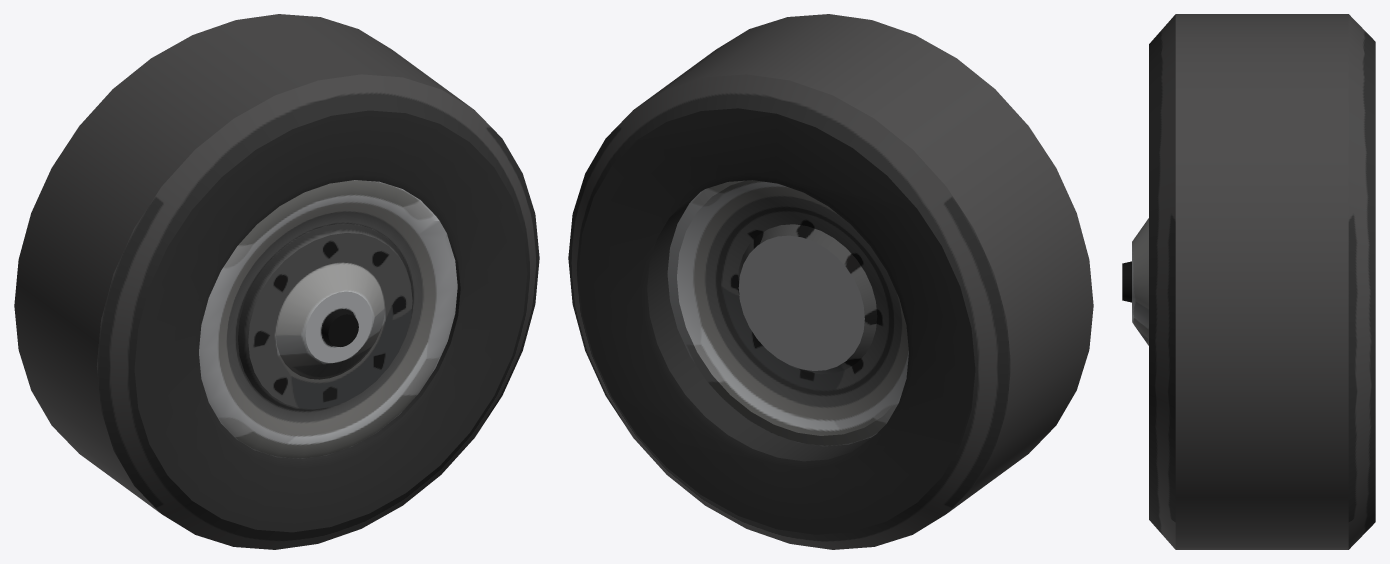
Rendered from tyre_4.glb.
3 views of the same model, side by side, from view 1: azimuth 30°, elevation 25°; view 2: azimuth 150°, elevation 25°; view 3: azimuth 270°, elevation 25° (orthographic). The views are drawn at different scales.
Visible parts, largest first — view 1: Object_4; view 2: Object_4; view 3: Object_4.
Boxes of the visible parts, x1,y1,x2,y2 form: Object_4: [14, 14, 539, 549]; Object_4: [568, 14, 1093, 549]; Object_4: [1122, 14, 1375, 549].
Size of the model in its own units: 1.22 by 1.22 by 0.5749.
1 material, 1 textured.
